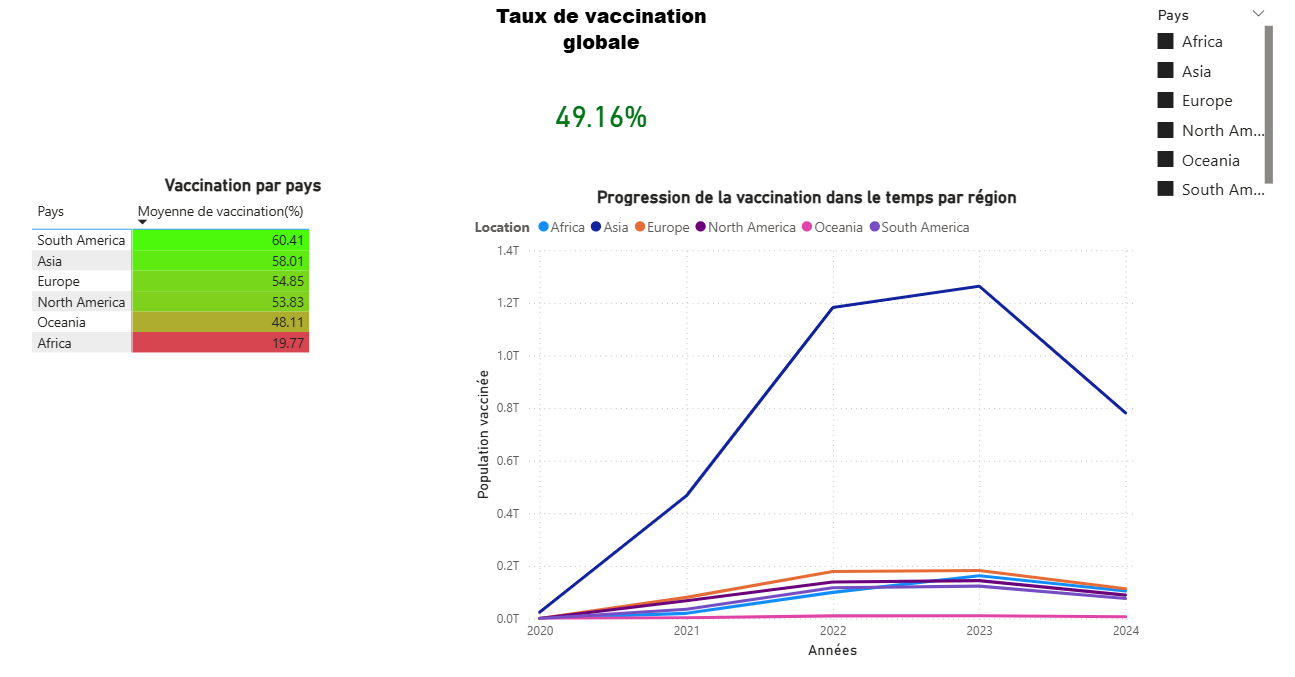

Layout of this report page (visuals, bound fields, positions):
{"tool":"powerbi","page":{"name":"Focus vaccination","canvas":[1280,720],"ordinal":3},"visuals":[{"type":"card","title":"Taux de vaccination globale","fields":{"Values":["covid_kpi_global.Taux de vaccination"]},"box":[451.5,11,279.9,170.2],"z":0},{"type":"pivotTable","title":"Vaccination par pays","fields":{"Rows":["covid_kpi_global.Pays"],"Values":["Avg(covid_kpi_global.vaccination(%))"]},"box":[28.8,181.1,422.6,465.2],"z":1000},{"type":"lineChart","title":"Progression de la vaccination dans le temps par région","fields":{"Category":["owid-covid-data.date.Variation.Hiérarchie de dates.Année","owid-covid-data.date.Variation.Hiérarchie de dates.Trimestre","owid-covid-data.date.Variation.Hiérarchie de dates.Mois","owid-covid-data.date.Variation.Hiérarchie de dates.Jour"],"Y":["Sum(owid-covid-data.people_fully_vaccinated)"],"Series":["owid-covid-data.Location"]},"box":[462.4,192.1,660,466.6],"z":2000},{"type":"slicer","fields":{"Values":["covid_kpi_global.Pays"]},"box":[1122.1,11,130.6,195.3],"z":3000}]}

Visuals, with their boxes on the page's 1280x720 design canvas (x1, y1, x2, y2). These are canvas units, not pixel positions in the 1295x677 screenshot, which may show the page scaled, cropped or inside an application window:
"Taux de vaccination globale" card: bbox=(452, 11, 731, 181)
"Vaccination par pays" pivotTable: bbox=(29, 181, 451, 646)
"Progression de la vaccination dans le temps par région" lineChart: bbox=(462, 192, 1122, 659)
slicer - covid_kpi_global.Pays: bbox=(1122, 11, 1253, 206)
